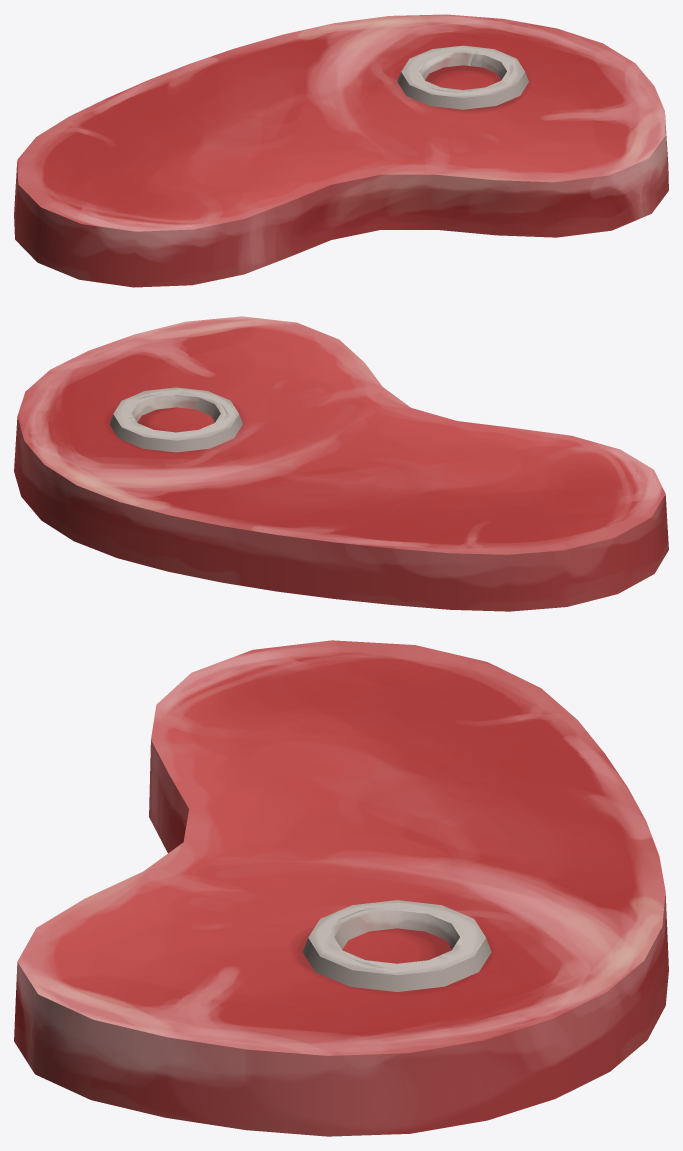
File: meatraw.fbx
3 views of the same model, one above another, from view 1: azimuth 30°, elevation 25°; view 2: azimuth 150°, elevation 25°; view 3: azimuth 270°, elevation 25° (orthographic). The views are drawn at different scales.
Visible parts, largest first — view 1: meatraw; view 2: meatraw; view 3: meatraw.
Boxes of the visible parts, box(x1,y1,x2,y2) form: meatraw: box(14, 14, 668, 287); meatraw: box(14, 316, 668, 611); meatraw: box(14, 640, 668, 1136).
Bounding box in the file's own units: 28.94 × 3.01 × 19.08.
